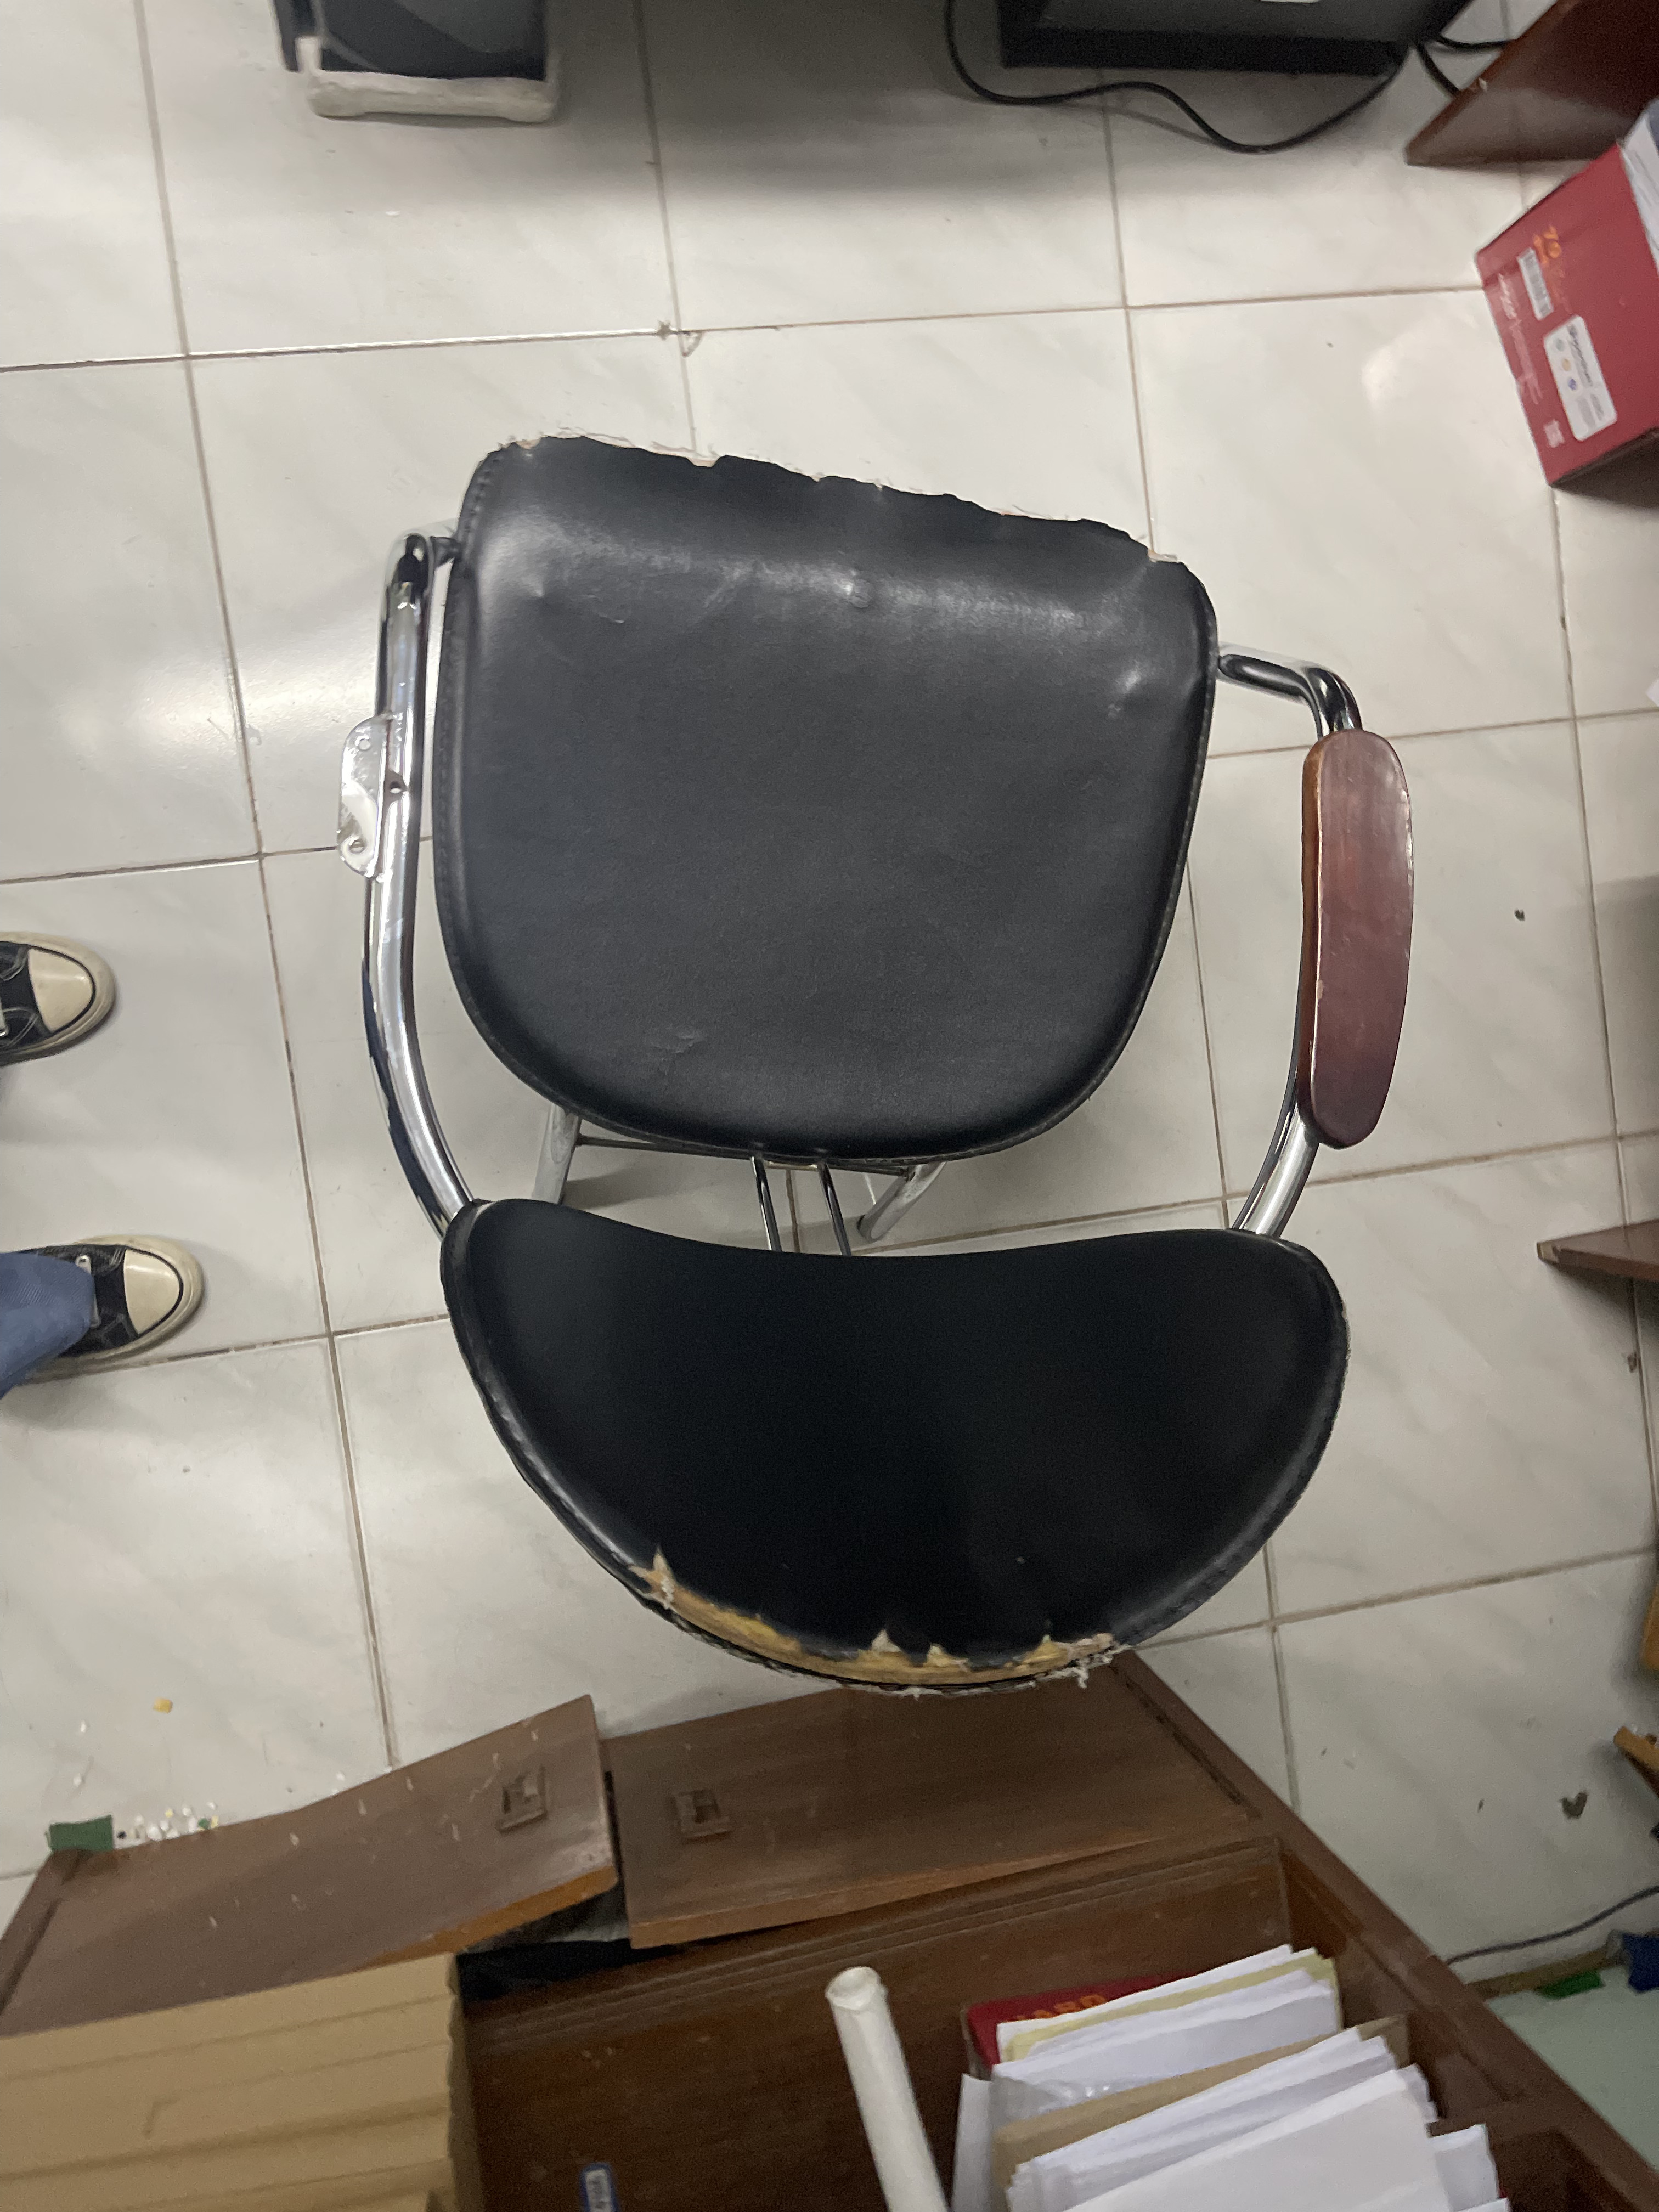chair1: (338, 421, 1424, 1737)
